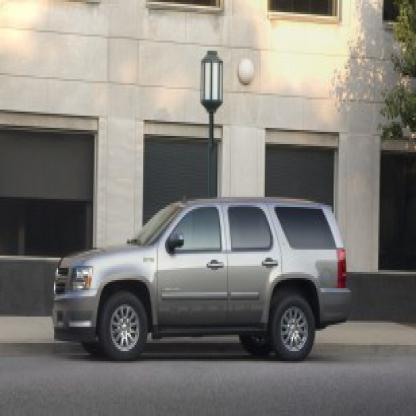Vehicle: (50, 197, 358, 369)
